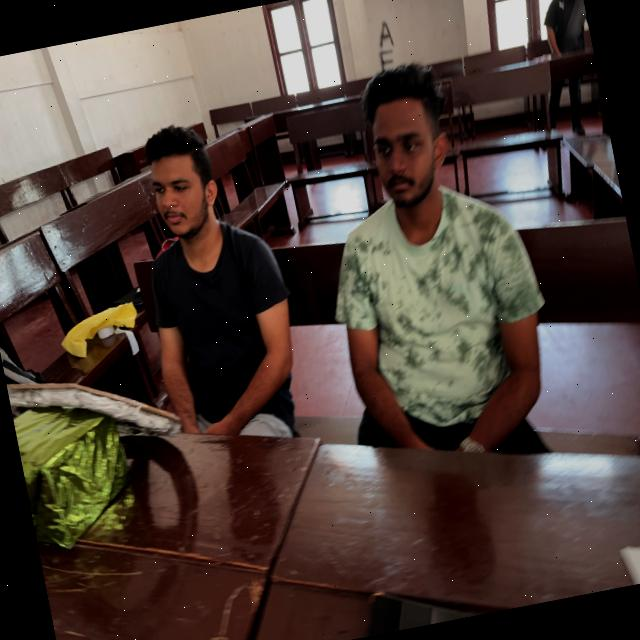no-seatbelt: (324, 188, 570, 498), (141, 214, 320, 477)
